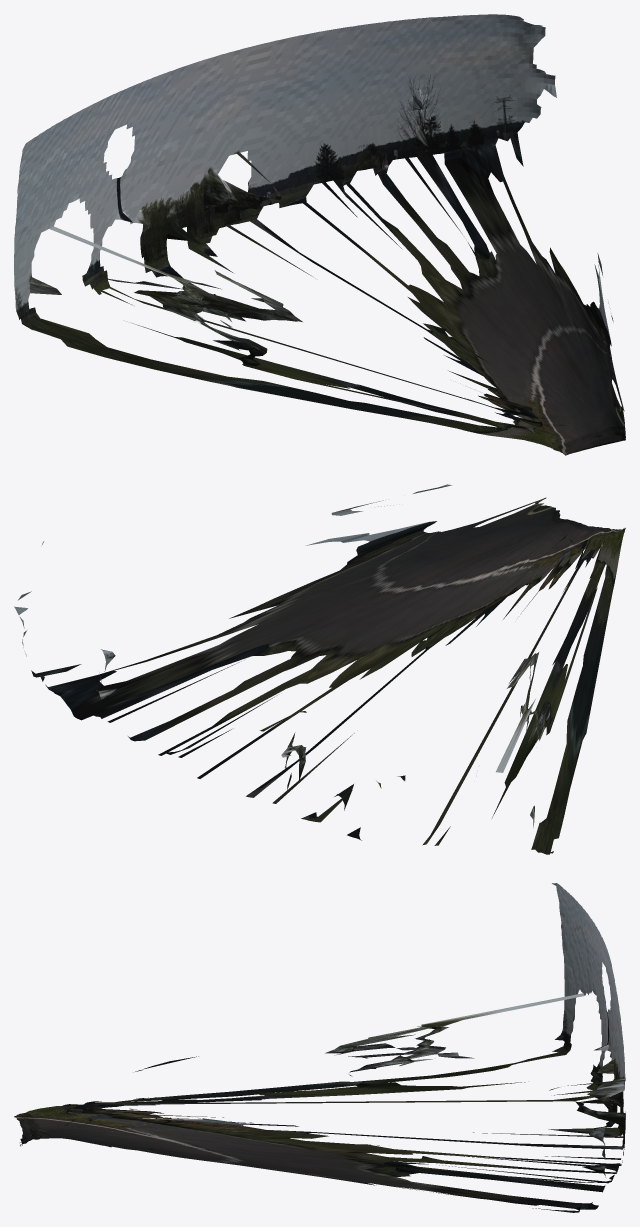
3 renders of one model, top to bottom at view 1: azimuth 30°, elevation 25°; view 2: azimuth 150°, elevation 25°; view 3: azimuth 270°, elevation 25°, orthographic. The views are drawn at different scales.
Visible parts, largest first — view 1: defaultobject; view 2: defaultobject; view 3: defaultobject.
Boxes of the visible parts, x1=… form: defaultobject: x1=14, y1=14, x2=625, y2=455; defaultobject: x1=14, y1=484, x2=625, y2=854; defaultobject: x1=14, y1=883, x2=625, y2=1212.
Size of the model in its own units: 40.47 by 14.62 by 44.69.
Materials: 1 (1 with a texture image).
